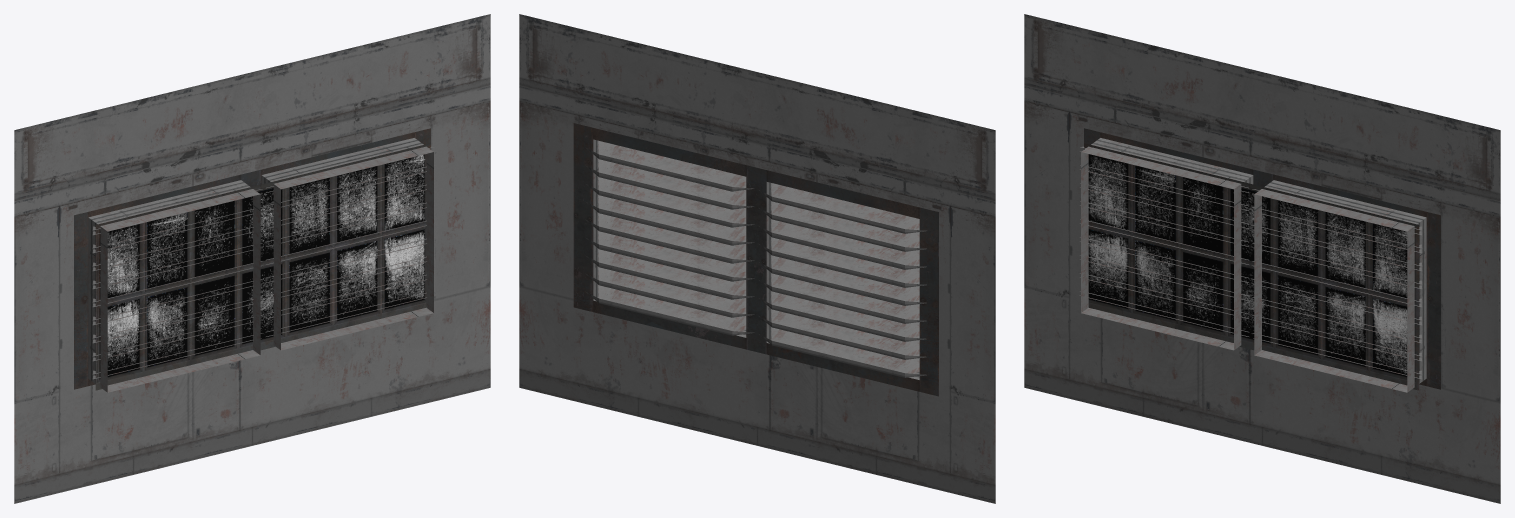
Rendered from ARC0910205.fbx.
3 renders of one model, left to right at view 1: azimuth 30°, elevation 25°; view 2: azimuth 150°, elevation 25°; view 3: azimuth 330°, elevation 25°, orthographic.
Parts seen in each view (by area): view 1: smARC0910205; view 2: smARC0910205; view 3: smARC0910205.
Boxes of the visible parts, x1=… form: smARC0910205: x1=14, y1=14, x2=490, y2=503; smARC0910205: x1=519, y1=14, x2=995, y2=503; smARC0910205: x1=1024, y1=14, x2=1500, y2=503.
Bounding box in the file's own units: 400 × 300 × 34.51.
1 material, 1 textured.
